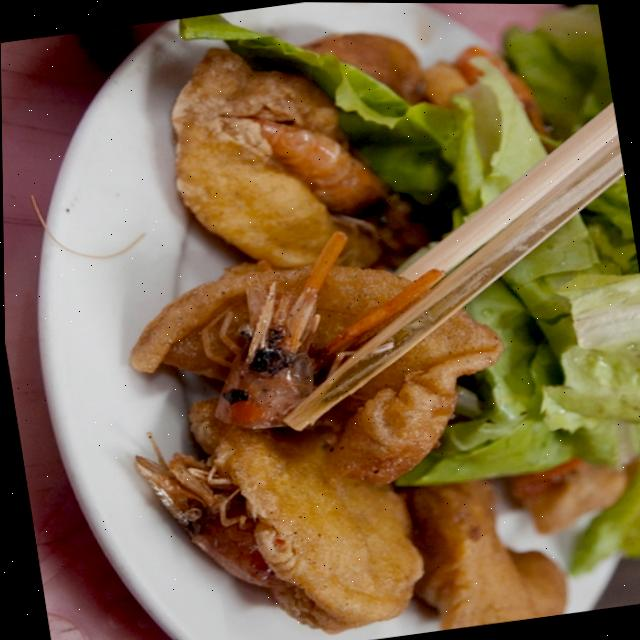炸货点心: (4, 0, 640, 640)
熟制海鲜: (4, 0, 640, 640)
